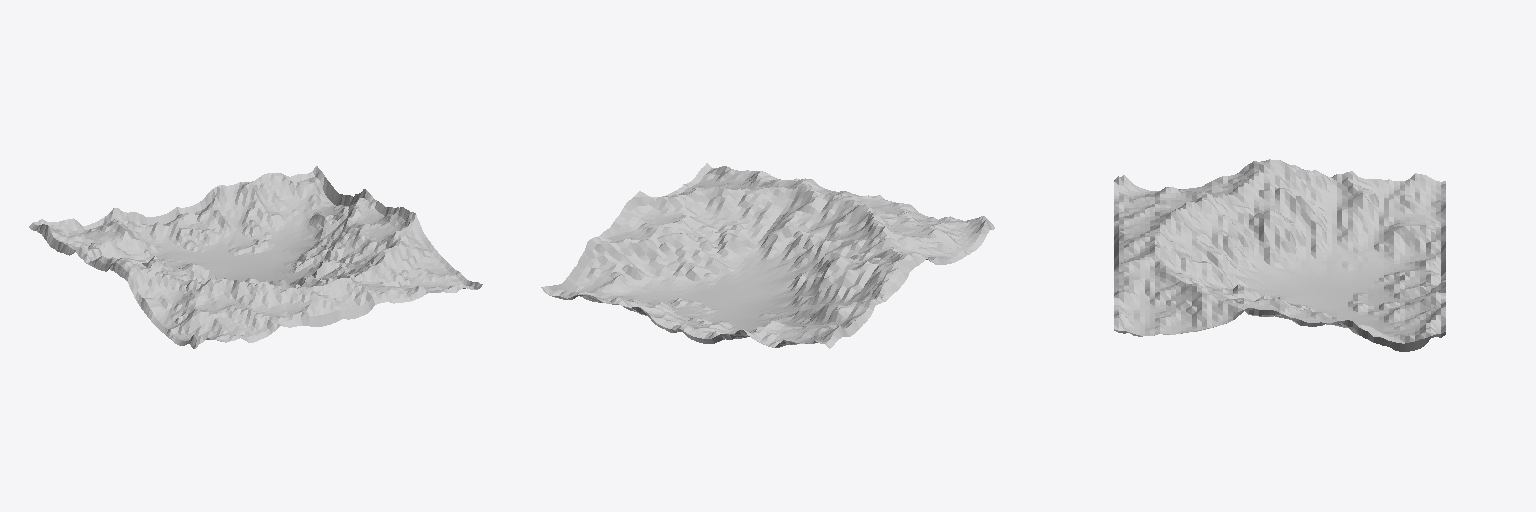
File: landscape2.obj
3 views of the same model, side by side, from view 1: azimuth 30°, elevation 25°; view 2: azimuth 150°, elevation 25°; view 3: azimuth 270°, elevation 25° (orthographic).
Visible parts, largest first — view 1: Plane_Plane.002; view 2: Plane_Plane.002; view 3: Plane_Plane.002.
Part boxes in pixels (left/top/right/bottom): Plane_Plane.002: left=29, top=166, right=482, bottom=348; Plane_Plane.002: left=541, top=163, right=994, bottom=348; Plane_Plane.002: left=1114, top=159, right=1445, bottom=351.
Size of the model in its own units: 40 by 8.15 by 40.